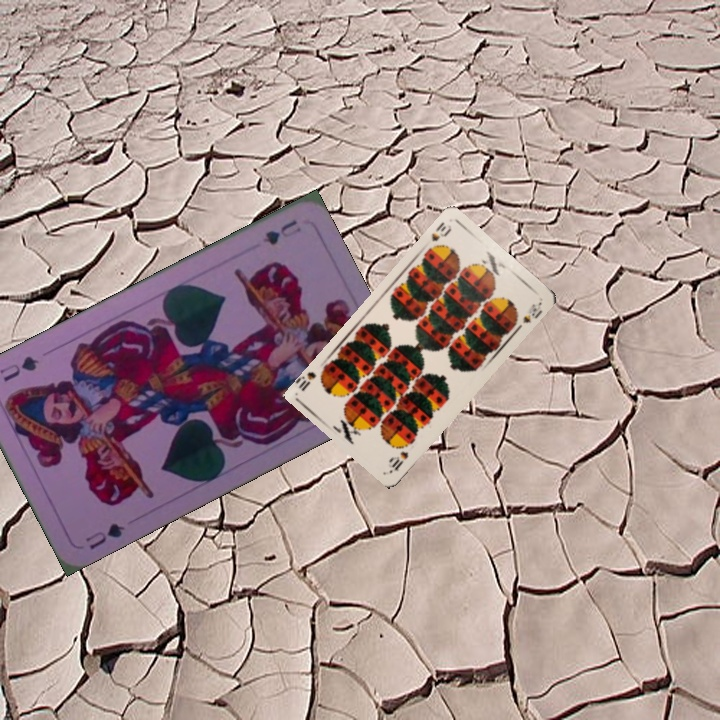GU: (81, 519, 128, 553), (258, 215, 304, 248)
S10: (423, 218, 454, 254), (384, 447, 411, 474)
